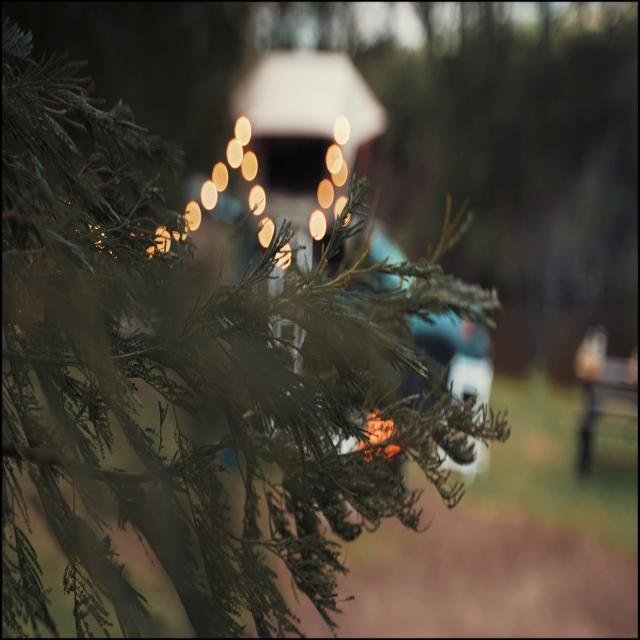Fire: (357, 404, 399, 456)
Smoke: (357, 6, 638, 382)
